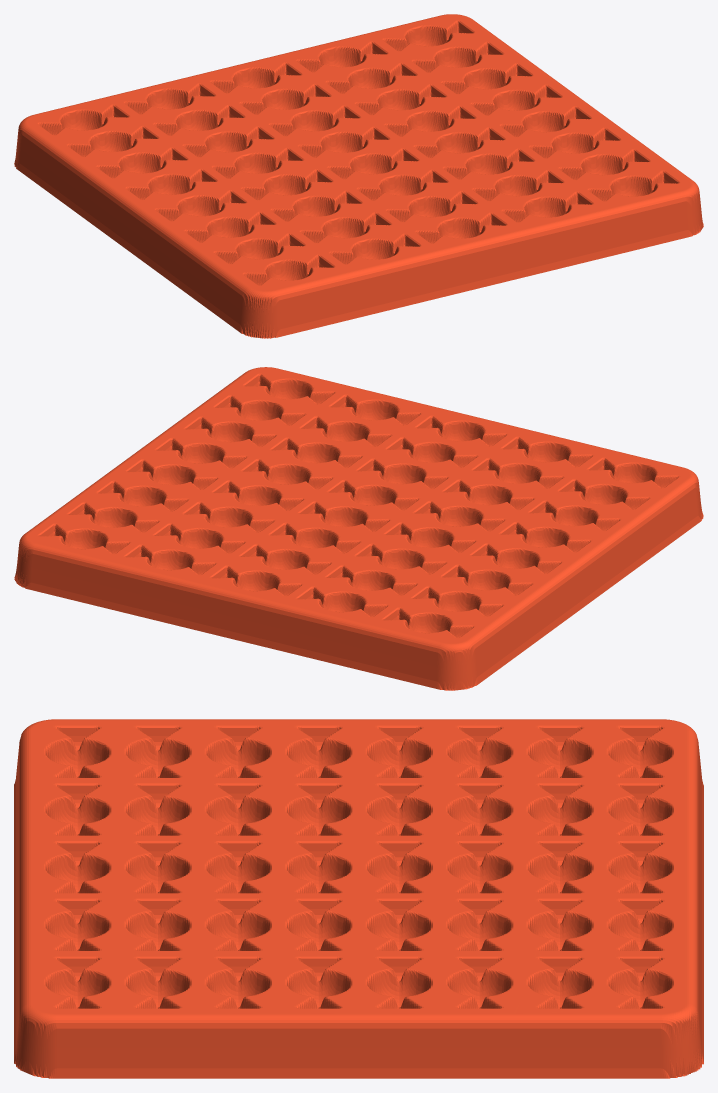
The model's file is mold.glb.
3 renders of one model, top to bottom at view 1: azimuth 30°, elevation 25°; view 2: azimuth 150°, elevation 25°; view 3: azimuth 270°, elevation 25°, orthographic. The views are drawn at different scales.
Parts seen in each view (by area): view 1: geometry_0; view 2: geometry_0; view 3: geometry_0.
Part boxes in pixels (bbox=[...]): geometry_0: bbox=[14, 14, 703, 338]; geometry_0: bbox=[14, 367, 703, 690]; geometry_0: bbox=[14, 719, 703, 1078].
Bounding box in the file's own units: 0.1571 × 0.0136 × 0.1486.
